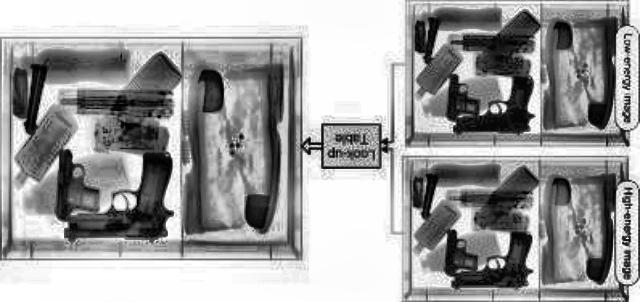Gun: (59, 150, 174, 240), (448, 71, 536, 131), (448, 228, 532, 288), (50, 146, 100, 220), (440, 226, 478, 272), (444, 72, 481, 118)
